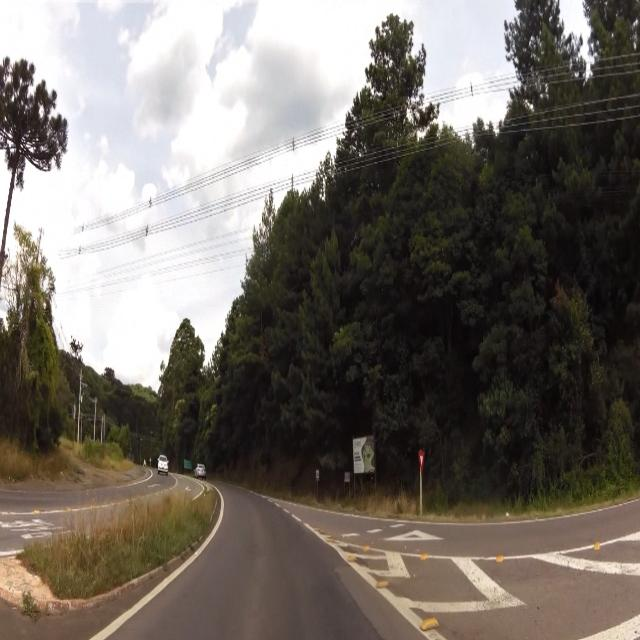R-2: (418, 447, 426, 471)
